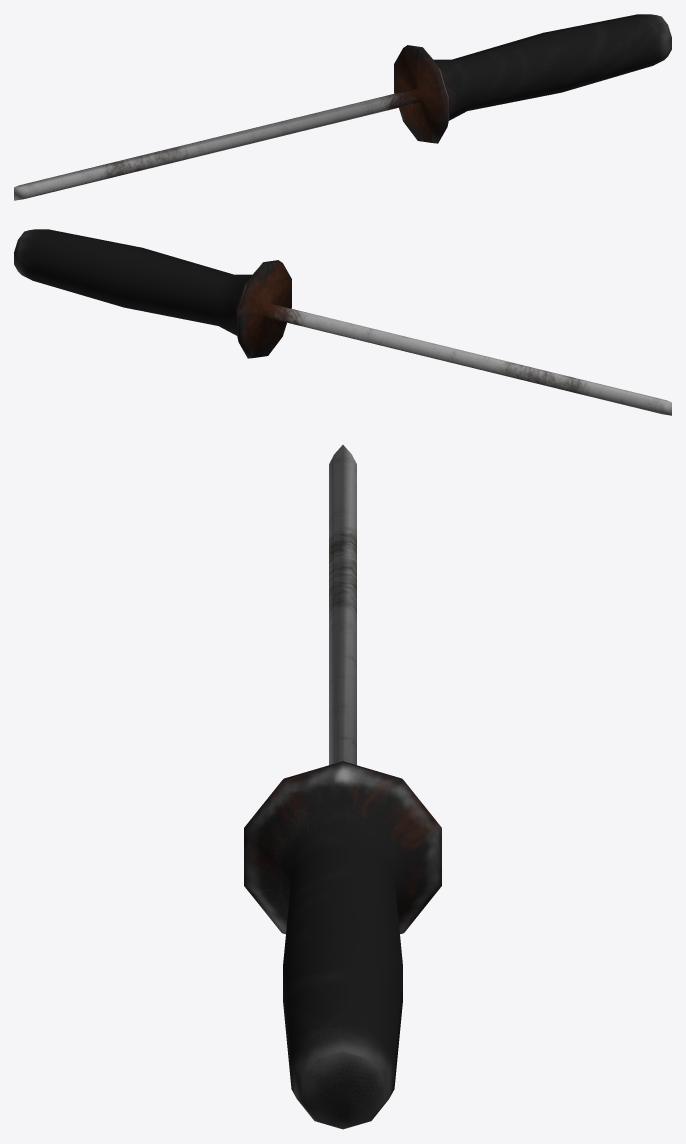
The model's file is Screwdriver.FBX.
3 renders of one model, top to bottom at view 1: azimuth 30°, elevation 25°; view 2: azimuth 150°, elevation 25°; view 3: azimuth 270°, elevation 25°, orthographic. The views are drawn at different scales.
Visible parts, largest first — view 1: Screwdriver; view 2: Screwdriver; view 3: Screwdriver.
Part boxes in pixels (x1,y1,x2,y2): Screwdriver: (14, 14, 671, 200); Screwdriver: (14, 229, 671, 415); Screwdriver: (244, 445, 441, 1129).
Size of the model in its own units: 276 by 38.38 by 36.5.
